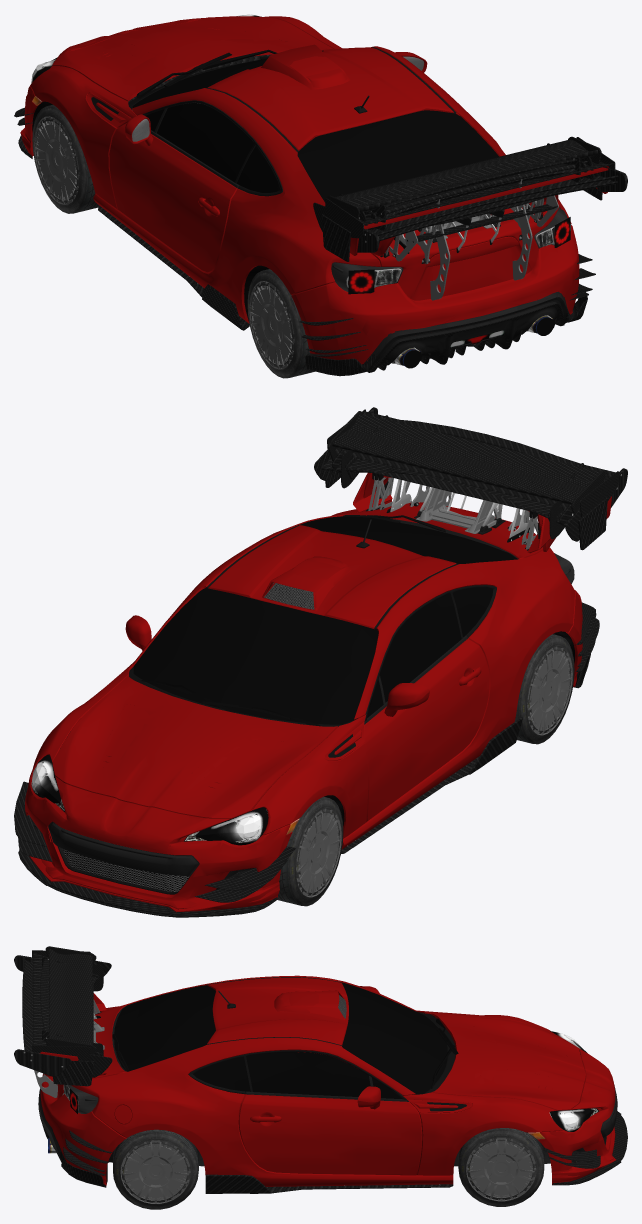
The model's file is Brz.fbx.
The picture shows the model from 3 angles, top to bottom: view 1: azimuth 30°, elevation 25°; view 2: azimuth 150°, elevation 25°; view 3: azimuth 270°, elevation 25°; orthographic projection. The views are drawn at different scales.
Visible parts, largest first — view 1: BRZ, RearBumper3, Hood, RearBumper, RearBumper2, Spoiler9, Hood1, Spoiler5, Spoiler7, Spoiler3, RearBumper4, W1 (+15 smaller); view 2: BRZ, Hood, Spoiler9, FrontBumper1, Hood1, FrontBumper, FrontBumper3, FrontBumper2, Spoiler3, W1, Lights_Head, W1_001 (+16 smaller); view 3: BRZ, Hood, Spoiler9, Hood1, W1_002, W1_003, FrontBumper3, FrontBumper1, Spoiler5, RearBumper3, FrontBumper, SideSkirt1 (+21 smaller).
Boxes of the visible parts, left/top/right/bottom form: BRZ: left=30, top=16, right=571, bottom=323; RearBumper3: left=292, top=228, right=592, bottom=372; Hood: left=52, top=16, right=333, bottom=101; RearBumper: left=291, top=226, right=578, bottom=369; RearBumper2: left=291, top=225, right=576, bottom=372; Spoiler9: left=326, top=136, right=601, bottom=238; Hood1: left=52, top=16, right=332, bottom=100; Spoiler5: left=357, top=166, right=627, bottom=264; Spoiler7: left=368, top=156, right=580, bottom=300; Spoiler3: left=325, top=137, right=615, bottom=261; RearBumper4: left=300, top=254, right=595, bottom=376; W1: left=33, top=104, right=99, bottom=212; BRZ: left=30, top=502, right=574, bottom=849; Hood: left=52, top=675, right=337, bottom=818; Spoiler9: left=328, top=411, right=605, bottom=533; FrontBumper1: left=19, top=776, right=299, bottom=915; Hood1: left=53, top=680, right=327, bottom=818; FrontBumper: left=25, top=777, right=290, bottom=909; FrontBumper3: left=14, top=775, right=297, bottom=916; FrontBumper2: left=25, top=764, right=290, bottom=917; Spoiler3: left=327, top=409, right=618, bottom=544; W1: left=277, top=796, right=342, bottom=905; Lights_Head: left=31, top=755, right=268, bottom=845; W1_001: left=514, top=634, right=573, bottom=743; BRZ: left=57, top=975, right=599, bottom=1186; Hood: left=431, top=1013, right=585, bottom=1110; Spoiler9: left=45, top=946, right=104, bottom=1054; Hood1: left=432, top=1013, right=585, bottom=1110; W1_002: left=113, top=1129, right=198, bottom=1204; W1_003: left=458, top=1128, right=544, bottom=1202; FrontBumper3: left=530, top=1048, right=621, bottom=1183; FrontBumper1: left=528, top=1052, right=627, bottom=1183; Spoiler5: left=14, top=955, right=71, bottom=1076; RearBumper3: left=38, top=1073, right=125, bottom=1183; FrontBumper: left=540, top=1049, right=617, bottom=1179; SideSkirt1: left=205, top=1174, right=453, bottom=1193.
Bounding box in the file's own units: 1.53 × 1.07 × 3.54.
